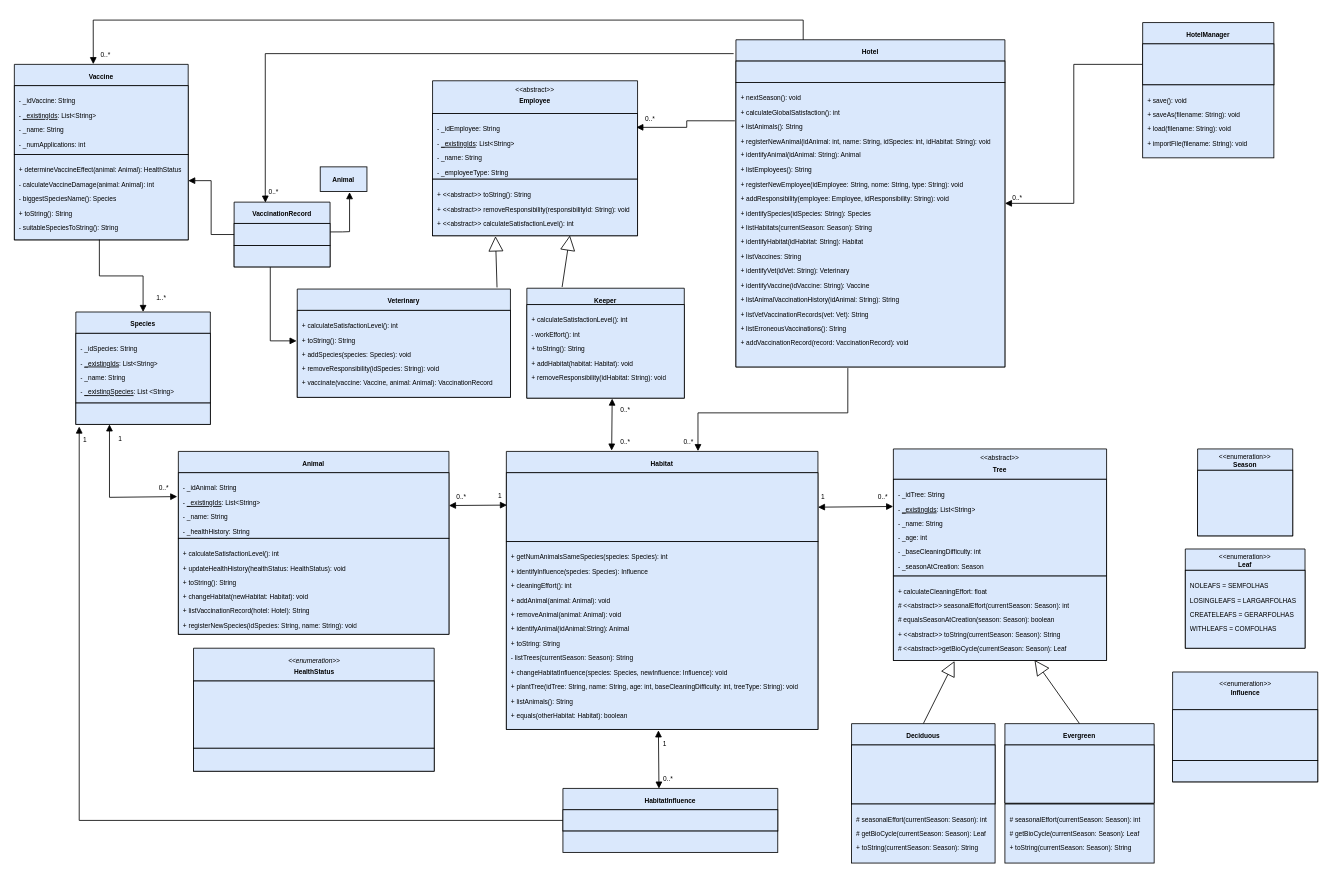
Image size: 1333x880. Some labels were removed from this diagram. The centre of each missing label's shape, as x and y in pixels:
+ determineAdequacy (influence: Influence): int: pixel 1245 771
+ determineHealthStatus(damage: int, correctSpecies: boolean) : HealthStatus: pixel 313 759
+ equals(otherSpecies: Species): boolean: pixel 142 413
+ toString(): String: pixel 281 256
- _damage: HealthStatus: pixel 281 234
- _idHabitat: String - _existingIds : List<String> - _name: String - _area: int: pixel 662 507
- _influence: Influence: pixel 670 820
-_currentSeason: Season: pixel 870 71
NORMAL CONFUSION ACCIDENT ERROR: pixel 313 714
POS = +20 NEU = 0 NEG = -20: pixel 1245 735
SPRING = 0 SUMMER = 1 FALL = 2 WINTER = 3: pixel 1245 502
